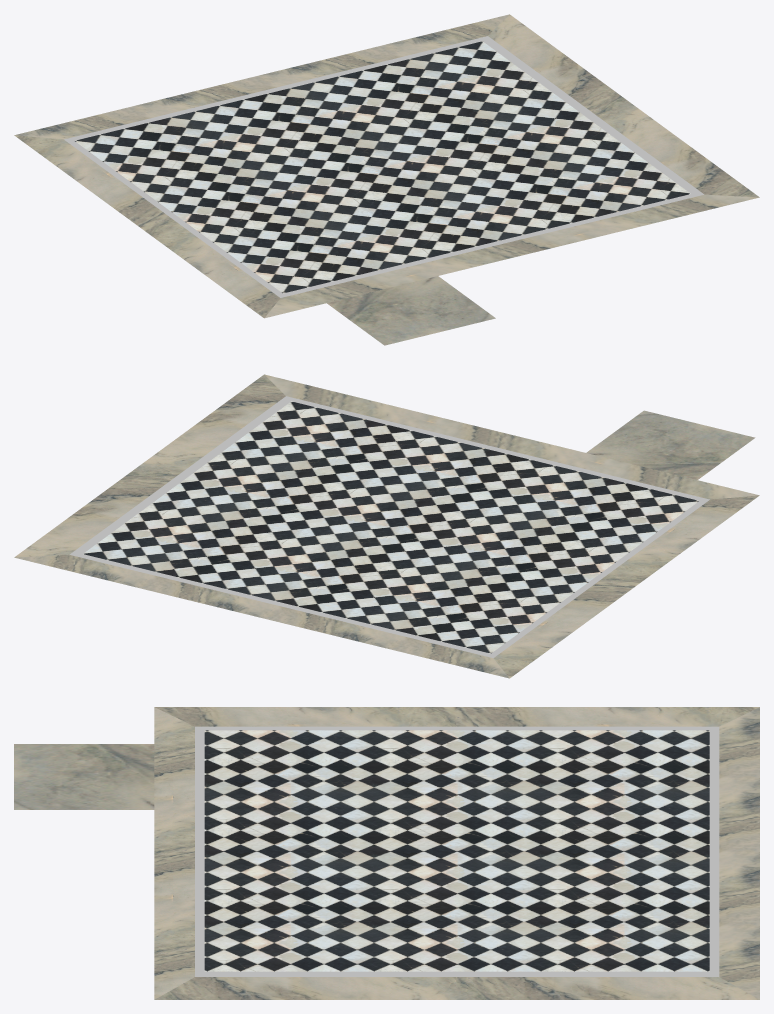
Rendered from Privy_Floor.fbx.
3 renders of one model, top to bottom at view 1: azimuth 30°, elevation 25°; view 2: azimuth 150°, elevation 25°; view 3: azimuth 270°, elevation 25°, orthographic. The views are drawn at different scales.
Visible parts, largest first — view 1: Bathroomfloor1; view 2: Bathroomfloor1; view 3: Bathroomfloor1.
Boxes of the visible parts, <box> form: Bathroomfloor1: <box>14,14,759,345</box>; Bathroomfloor1: <box>14,374,759,678</box>; Bathroomfloor1: <box>14,707,759,999</box>.
Bounding box in the file's own units: 864 × 0.000152 × 930.
